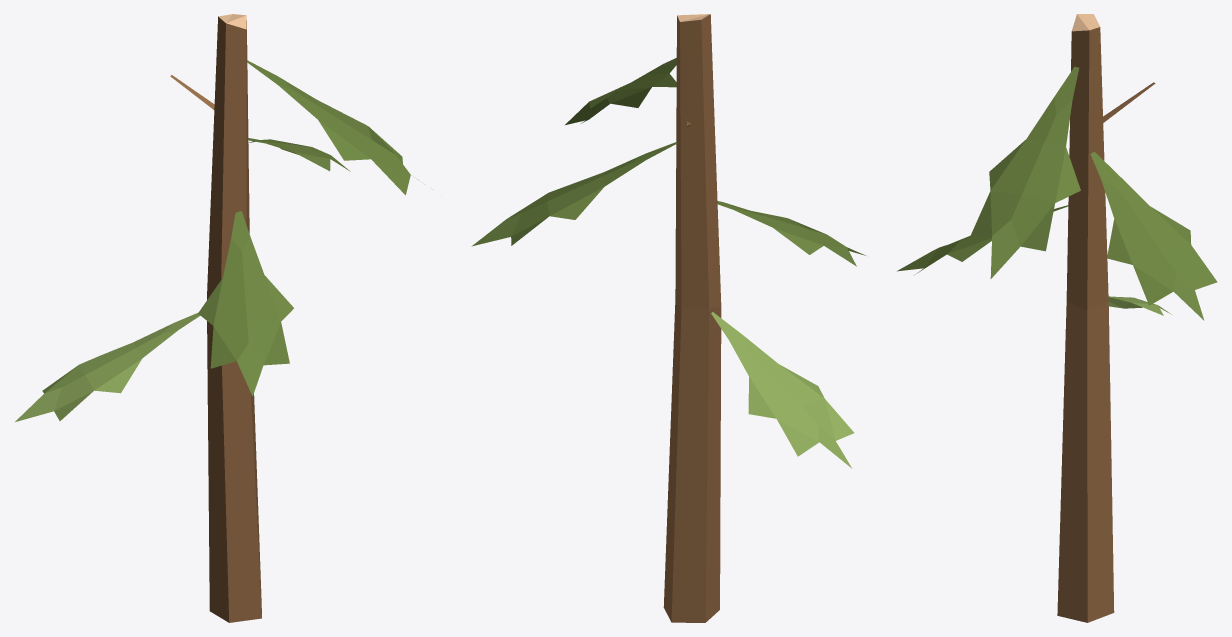
File: Dead_Pine_Tree_crk_OneSided_l_04_LOD.fbx
3 views of the same model, side by side, from view 1: azimuth 30°, elevation 25°; view 2: azimuth 150°, elevation 25°; view 3: azimuth 270°, elevation 25° (orthographic).
Visible parts, largest first — view 1: Dead_Pine_Tree_crk_OneSided_l_04_LOD0; view 2: Dead_Pine_Tree_crk_OneSided_l_04_LOD0; view 3: Dead_Pine_Tree_crk_OneSided_l_04_LOD0.
Part boxes in pixels (bbox=[...]): Dead_Pine_Tree_crk_OneSided_l_04_LOD0: bbox=[15, 14, 417, 622]; Dead_Pine_Tree_crk_OneSided_l_04_LOD0: bbox=[471, 14, 866, 622]; Dead_Pine_Tree_crk_OneSided_l_04_LOD0: bbox=[897, 14, 1217, 622].
Size of what is drawn, in the model's own units: 462 by 753 by 372.
